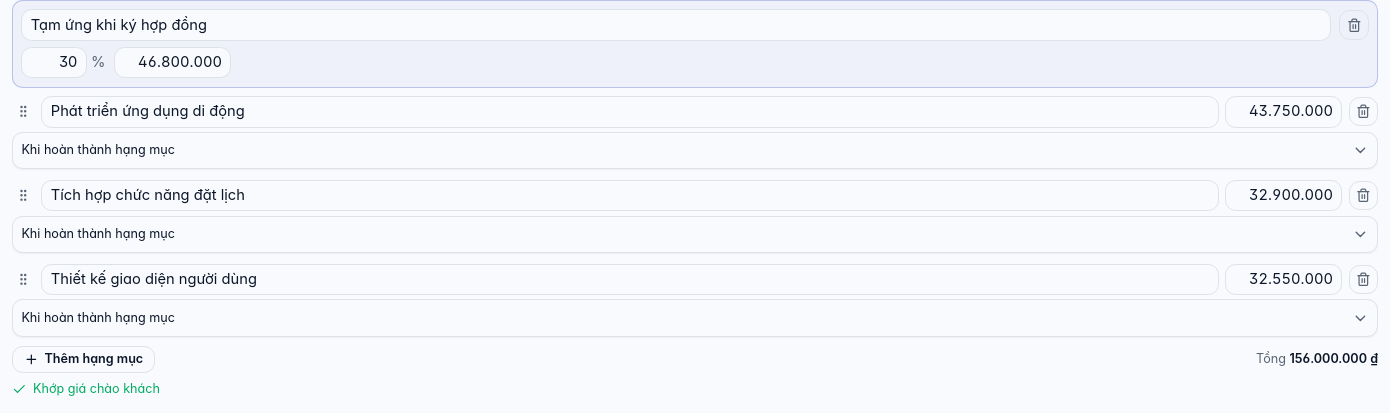
it: LineItemsEditor — hàng phí trả trước › rời ô khi đang gõ dở thì hiện lại đúng số đang có, không mất tiền
Replace the text in the field named "Số tiền trả trước" with "5" at (173, 63), box [114, 47, 231, 78]
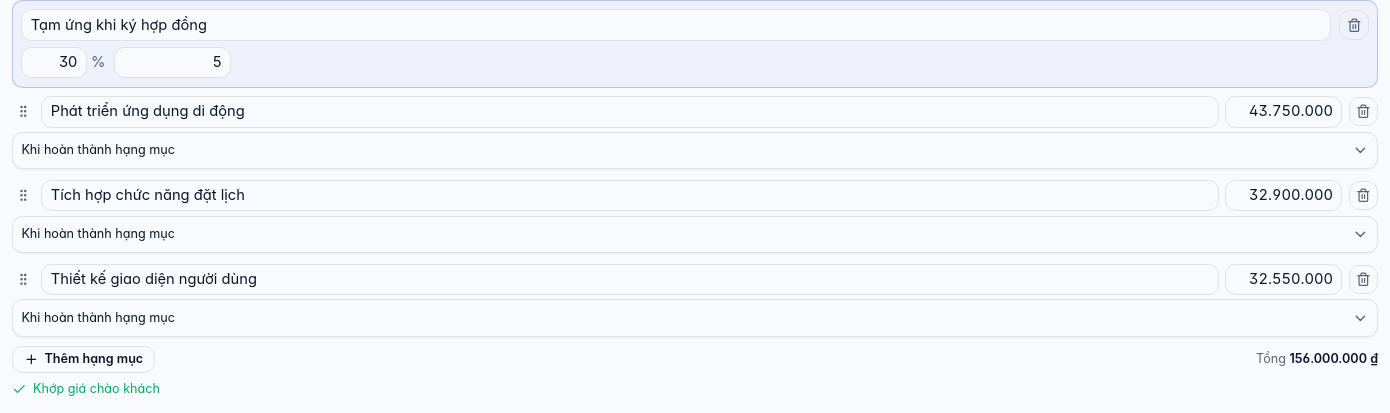
Leave the field named "Số tiền trả trước", box [114, 47, 231, 78]
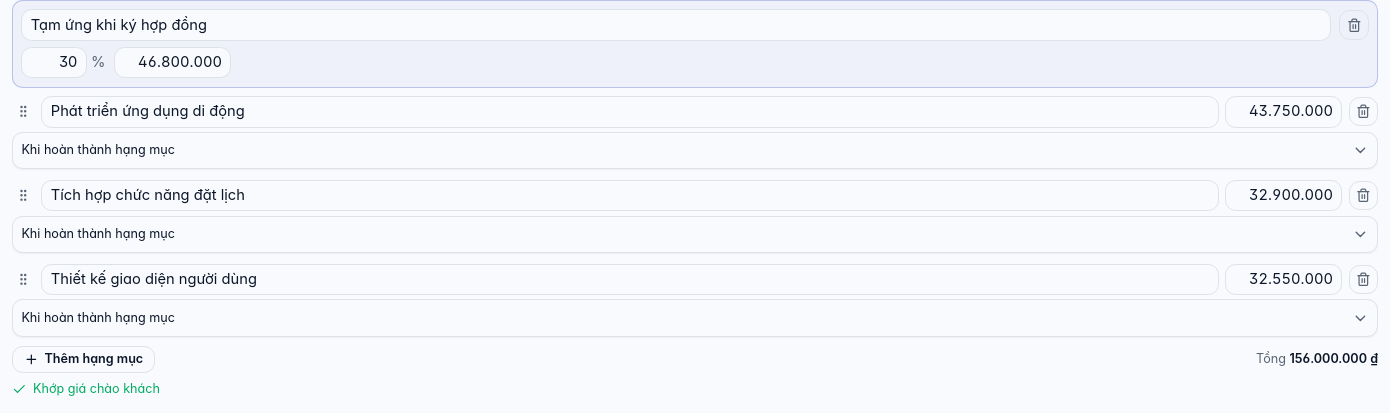
Now the field named "Số tiền trả trước" holds "46.800.000", box [114, 47, 231, 78]
